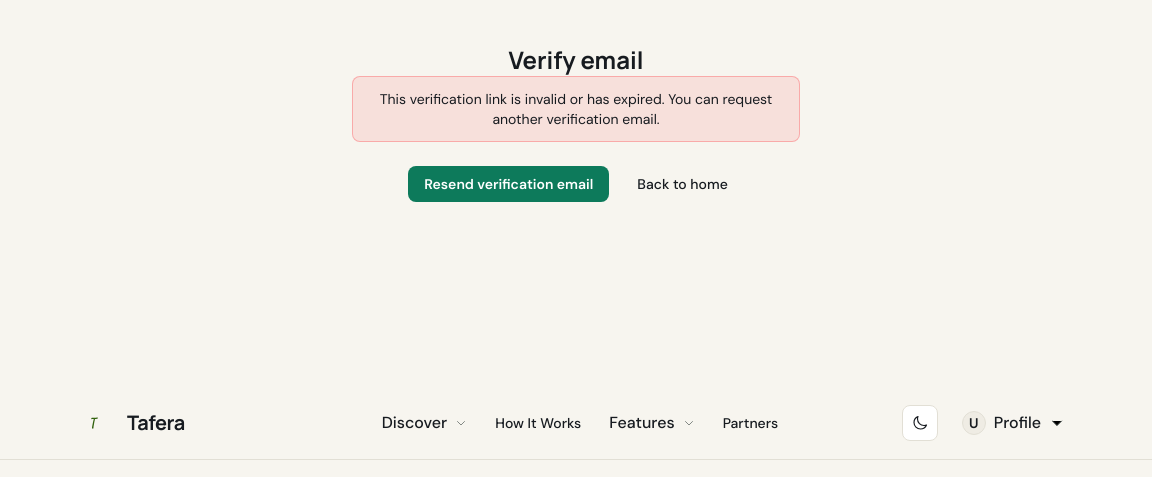
Test: VerifyEmail resend › shows success feedback after a resend
Expected: the text "invalid or has expired" is shown, x1=380 y1=90 x2=772 y2=128
Click the button "Resend verification email" at (509, 184), box x1=408 y1=166 x2=609 y2=202
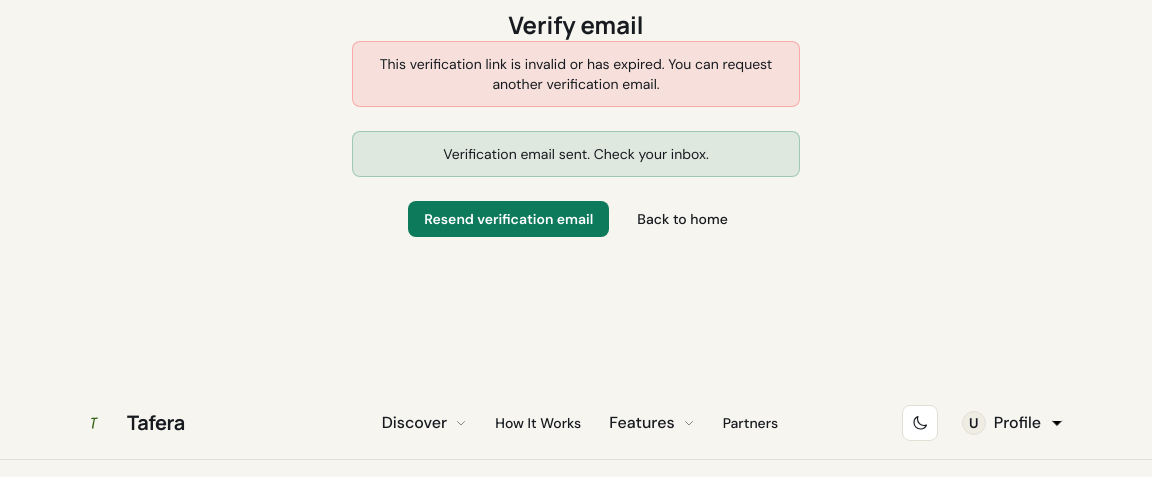
Now the message shows "sent. Check your inbox", box x1=443 y1=145 x2=709 y2=163
